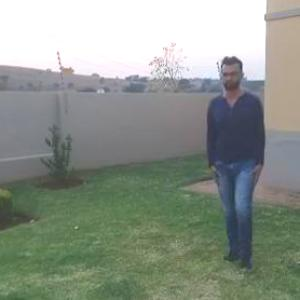follow: (206, 57, 269, 242)
